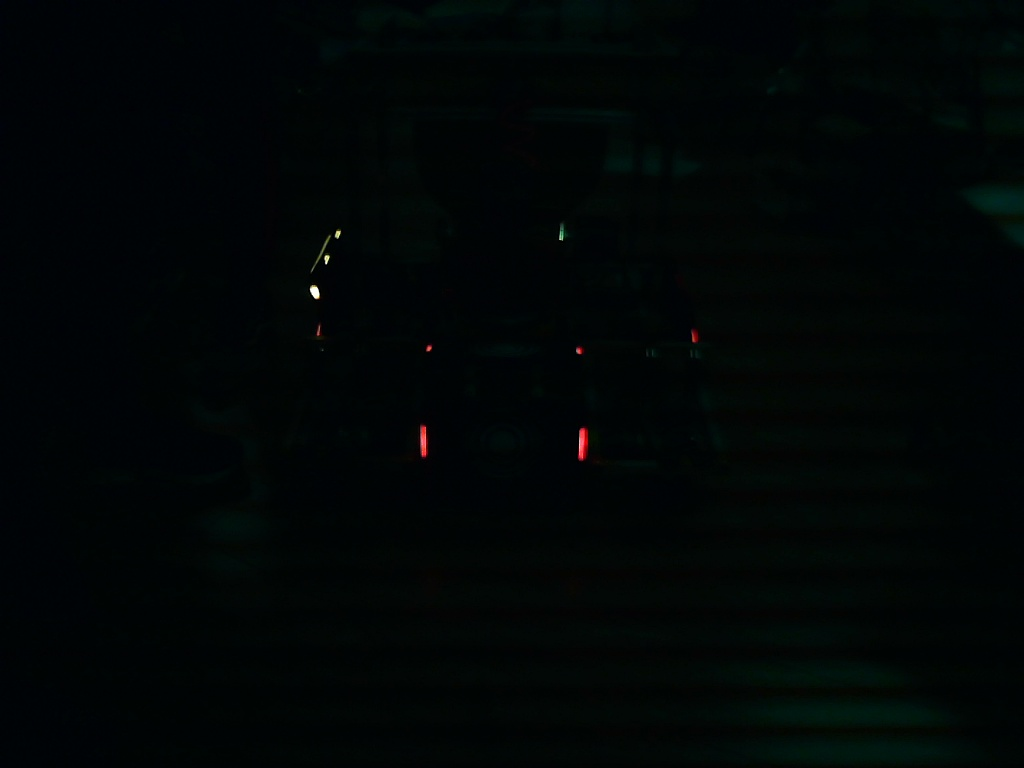lamp: (417, 420, 433, 463), (576, 422, 591, 466)
